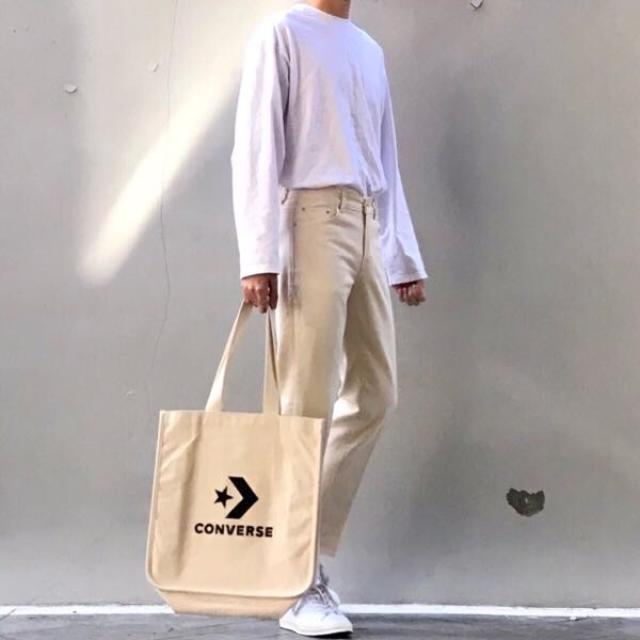cottonpants: (259, 180, 398, 554)
longsleeve: (234, 3, 426, 292)
